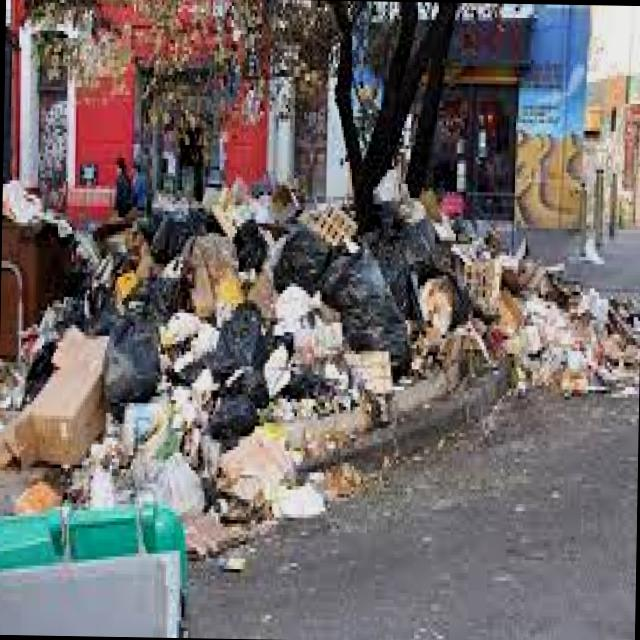garbage: (0, 135, 634, 528)
